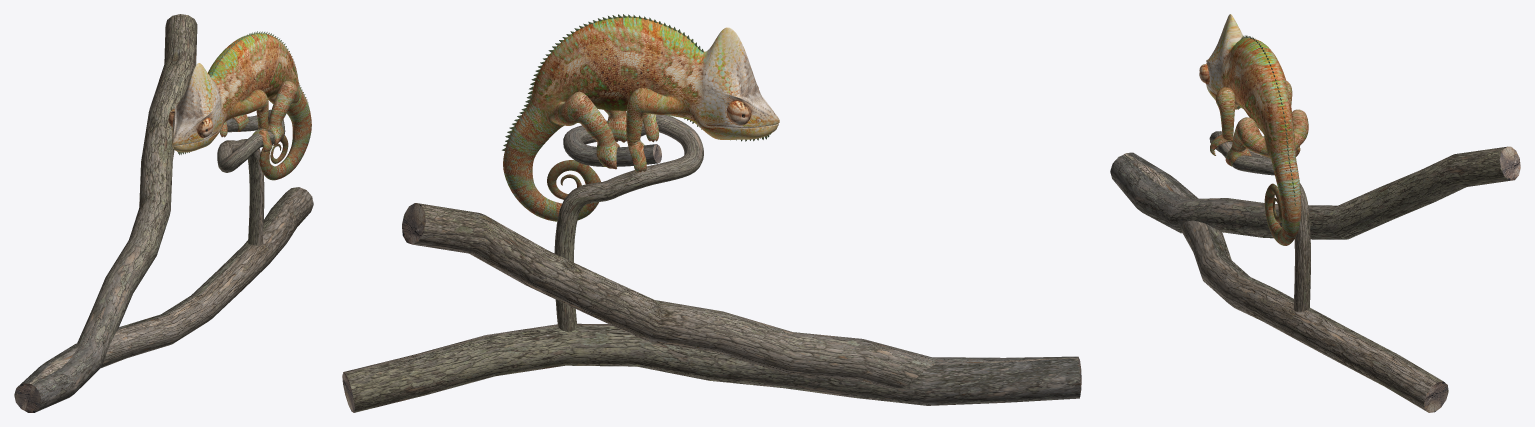
3 renders of one model, left to right at view 1: azimuth 30°, elevation 25°; view 2: azimuth 150°, elevation 25°; view 3: azimuth 270°, elevation 25°, orthographic. The views are drawn at different scales.
Visible parts, largest first — view 1: Branch, Chameleon; view 2: Branch, Chameleon; view 3: Branch, Chameleon.
Part boxes in pixels (x1=…): Branch: x1=14, y1=14, x2=313, y2=412; Chameleon: x1=168, y1=31, x2=311, y2=180; Branch: x1=342, y1=114, x2=1081, y2=412; Chameleon: x1=502, y1=14, x2=779, y2=221; Branch: x1=1110, y1=131, x2=1520, y2=412; Chameleon: x1=1199, y1=14, x2=1308, y2=245.
Size of the model in its own units: 296 by 181 by 224.
Materials: 4 (4 with a texture image).
